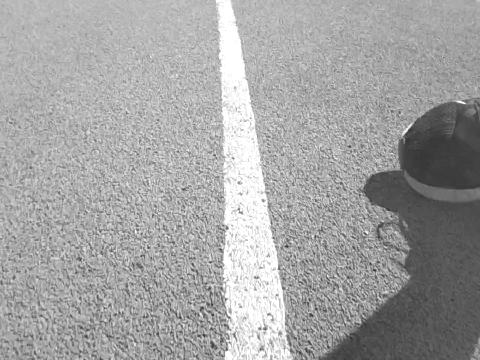Lines: (215, 0, 294, 360)
